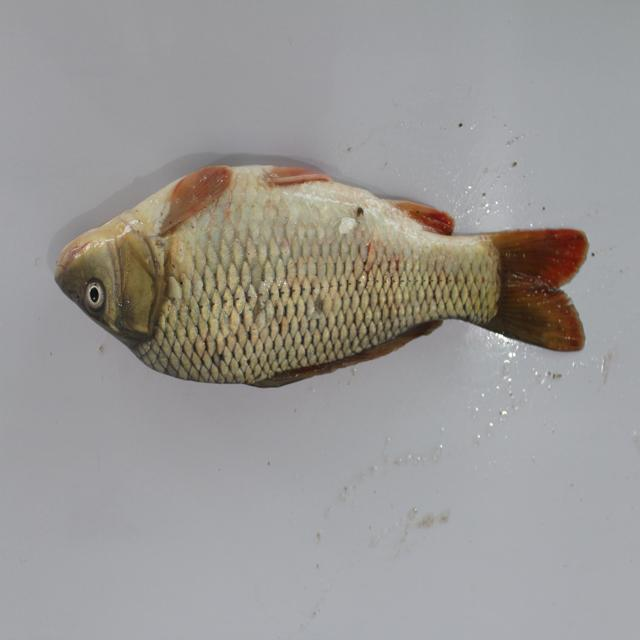CommonCarp: (67, 159, 595, 405)
